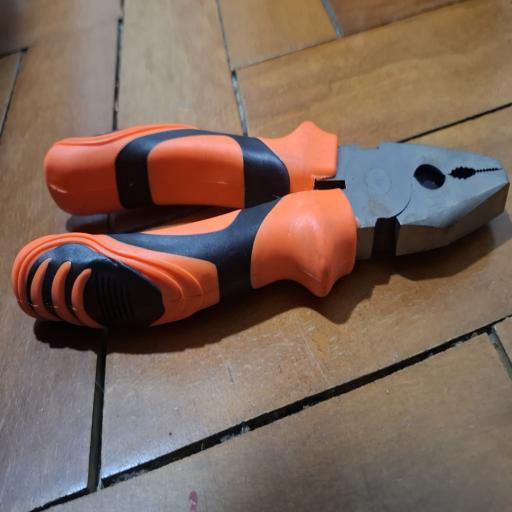alicate: (11, 90, 512, 354)
